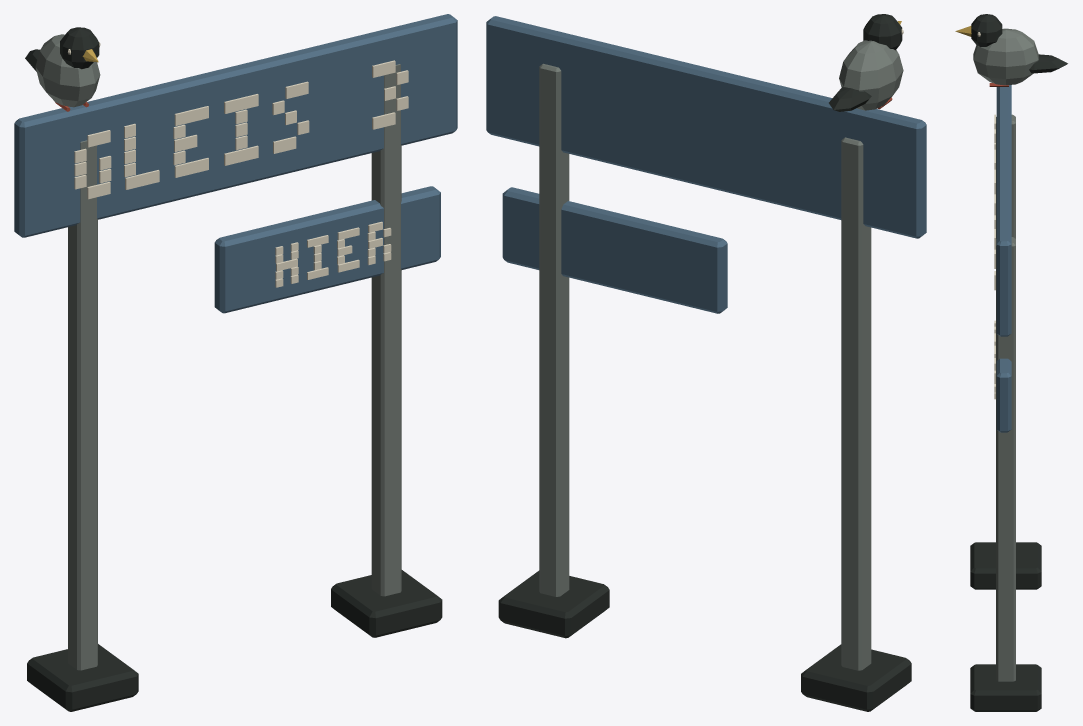
File: platform-sign.glb
3 renders of one model, left to right at view 1: azimuth 30°, elevation 25°; view 2: azimuth 150°, elevation 25°; view 3: azimuth 270°, elevation 25°, orthographic. The views are drawn at different scales.
Parts seen in each view (by area): view 1: platform-sign; view 2: platform-sign; view 3: platform-sign.
Part boxes in pixels (x1,y1,x2,y2): platform-sign: [14, 14, 457, 711]; platform-sign: [486, 14, 926, 711]; platform-sign: [955, 14, 1067, 711].
Size of the model in its own units: 2.1 by 3.09 by 0.57.
